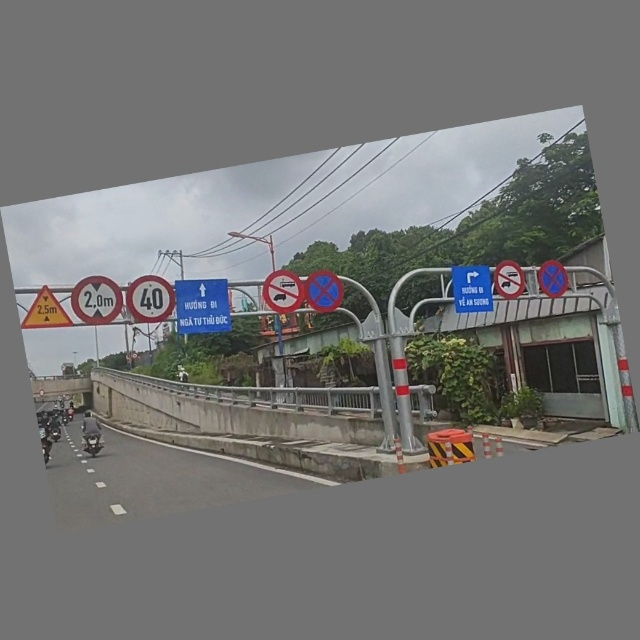P.107: (257, 266, 310, 320), (490, 258, 530, 304)
P.117*: (69, 271, 127, 331)
P.127*40: (122, 269, 180, 331)
P.130: (304, 266, 349, 319), (535, 258, 572, 303)
W.239b*: (15, 281, 76, 338)
